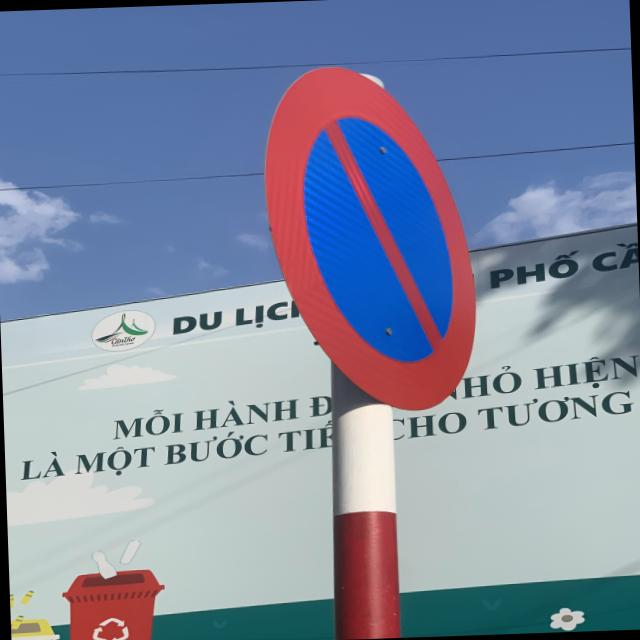Cam_Dau_Xe: (258, 59, 480, 417)
